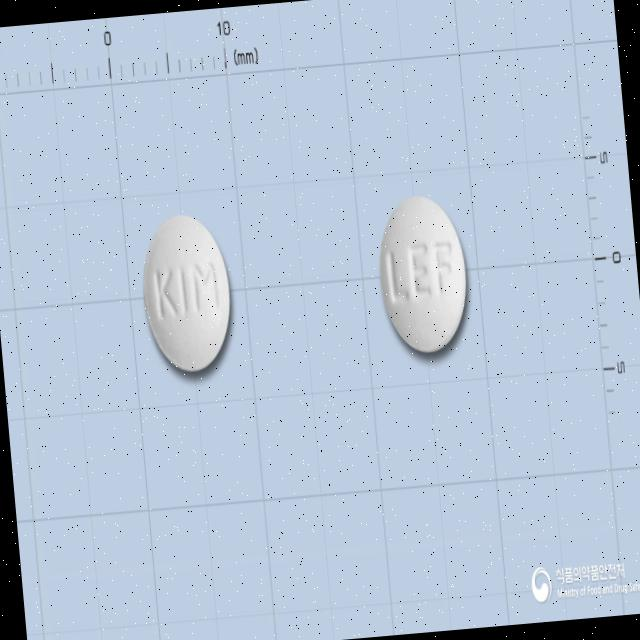Kimara - 20mg: (371, 188, 474, 356), (137, 210, 237, 374)
